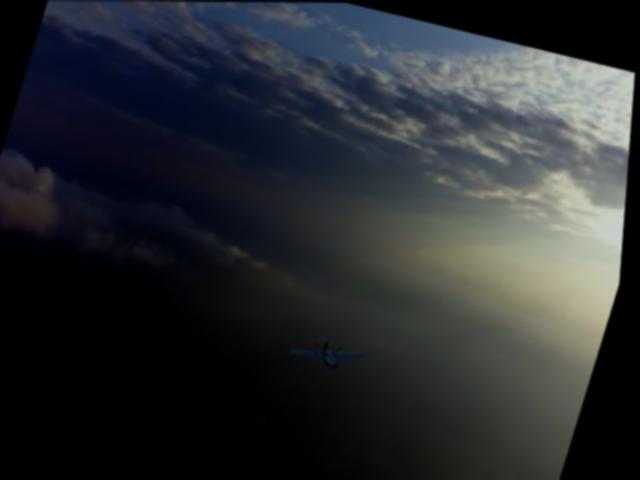uav: (287, 323, 378, 382)
